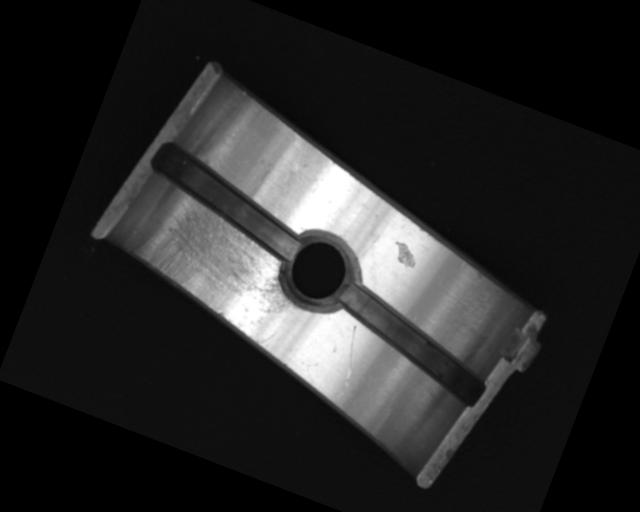bruise: (387, 239, 422, 271)
gap: (322, 278, 503, 408), (136, 137, 318, 262)
hole: (270, 221, 368, 323)
nick: (331, 323, 369, 387)
scratch: (121, 179, 317, 348)
